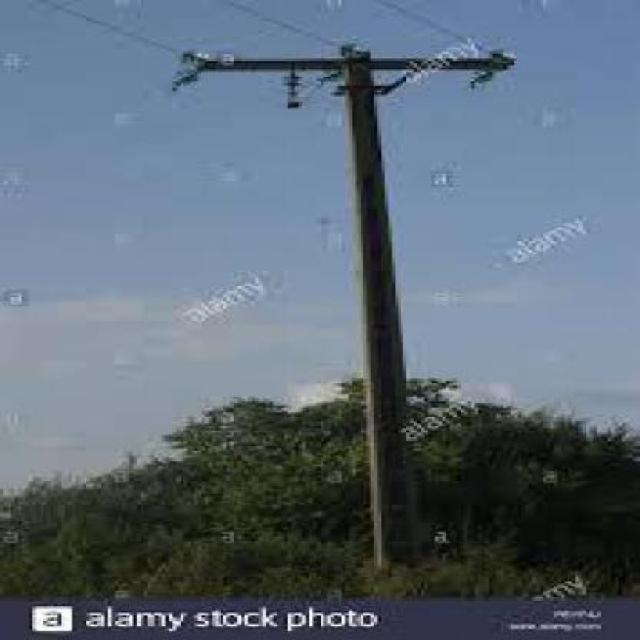light_pole: (315, 21, 428, 549)
